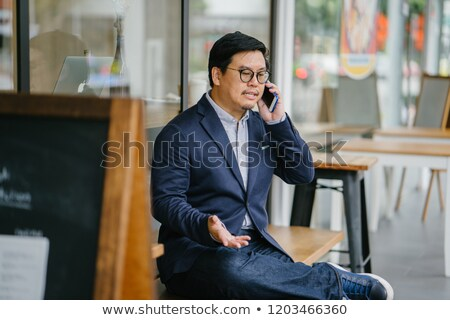phone: (259, 82, 287, 117)
talk: (233, 62, 293, 128)
